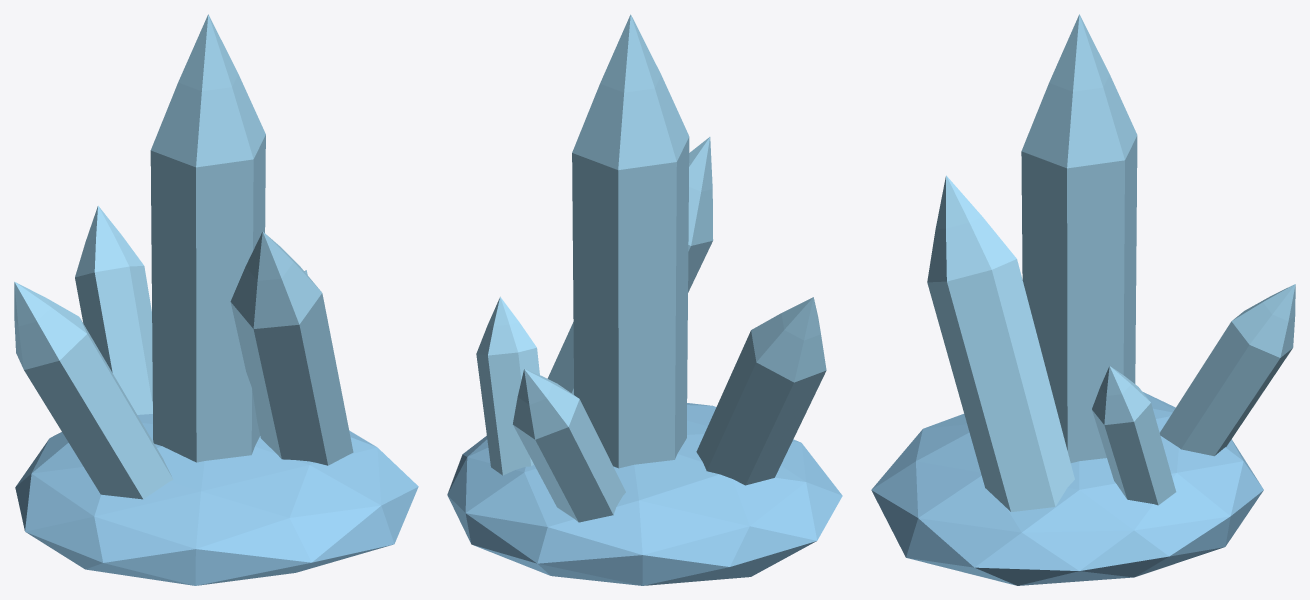
The model's file is SpleefCrystal.obj.
3 views of the same model, side by side, from view 1: azimuth 30°, elevation 25°; view 2: azimuth 150°, elevation 25°; view 3: azimuth 270°, elevation 25° (orthographic).
Visible parts, largest first — view 1: Crystal, Base; view 2: Crystal, Base; view 3: Crystal, Base.
Part boxes in pixels (<box>): Crystal: <box>14,14,353,499</box>; Base: <box>15,414,418,585</box>; Crystal: <box>476,14,826,522</box>; Base: <box>447,403,842,585</box>; Crystal: <box>927,14,1295,511</box>; Base: <box>871,392,1263,585</box>.
Size of the model in its own units: 5.09 by 6.8 by 5.25.
